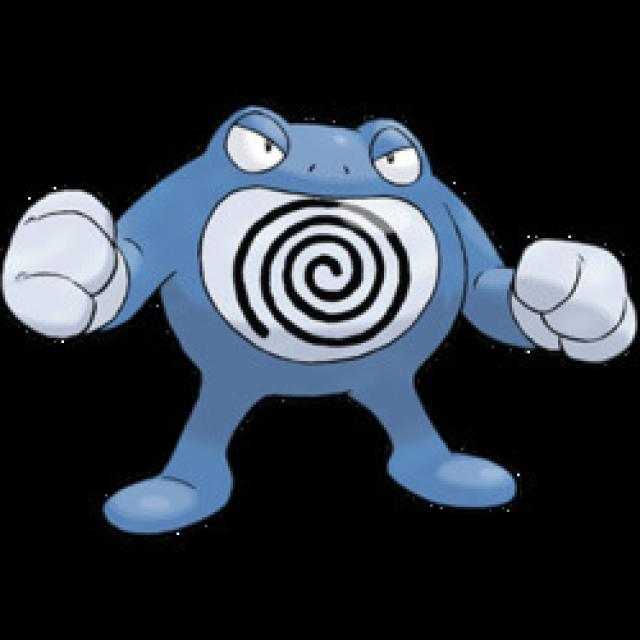Poliwrath: (33, 107, 582, 506)
